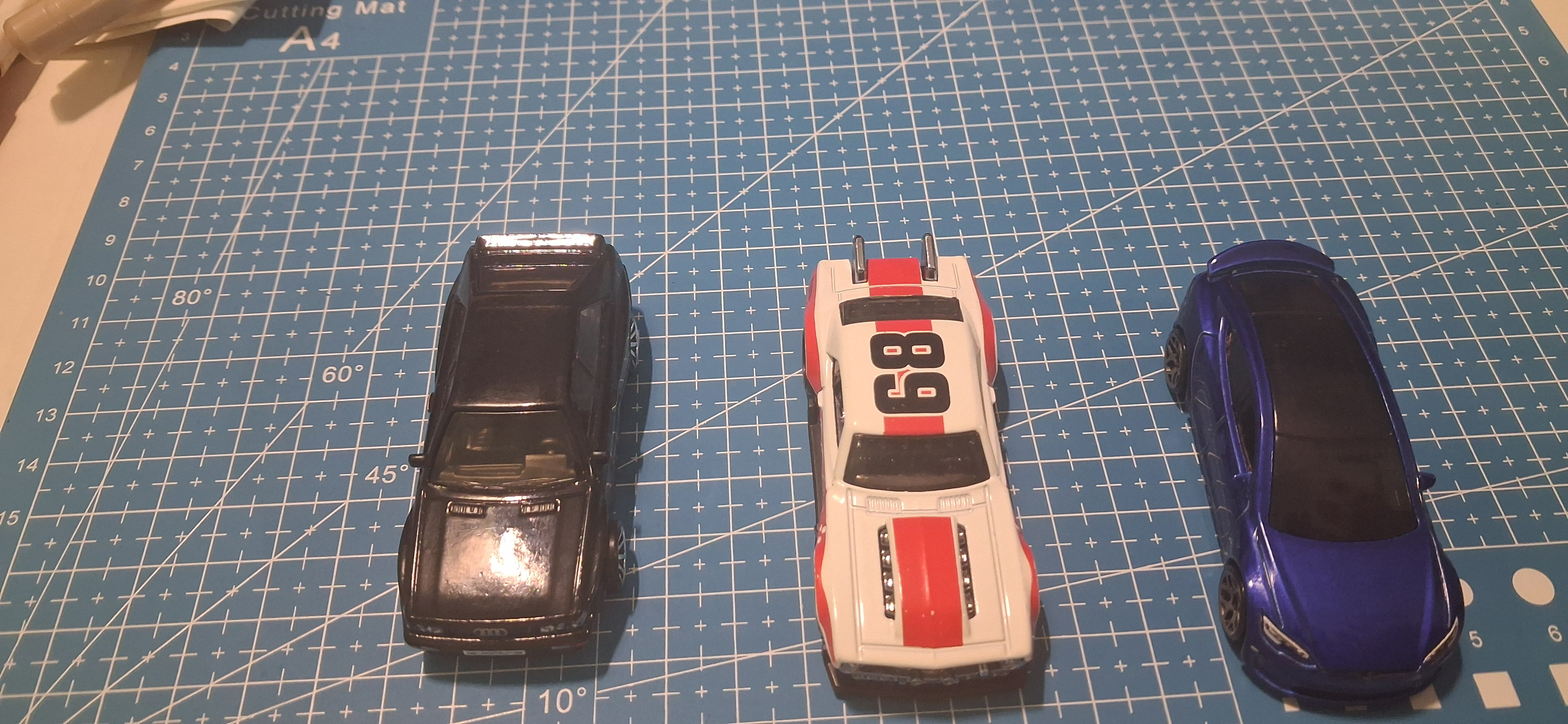Audi_Quattro: (404, 190, 657, 691)
Camaro: (754, 223, 1079, 709)
Tesla_Model_S_Plaid: (1140, 225, 1508, 714)
